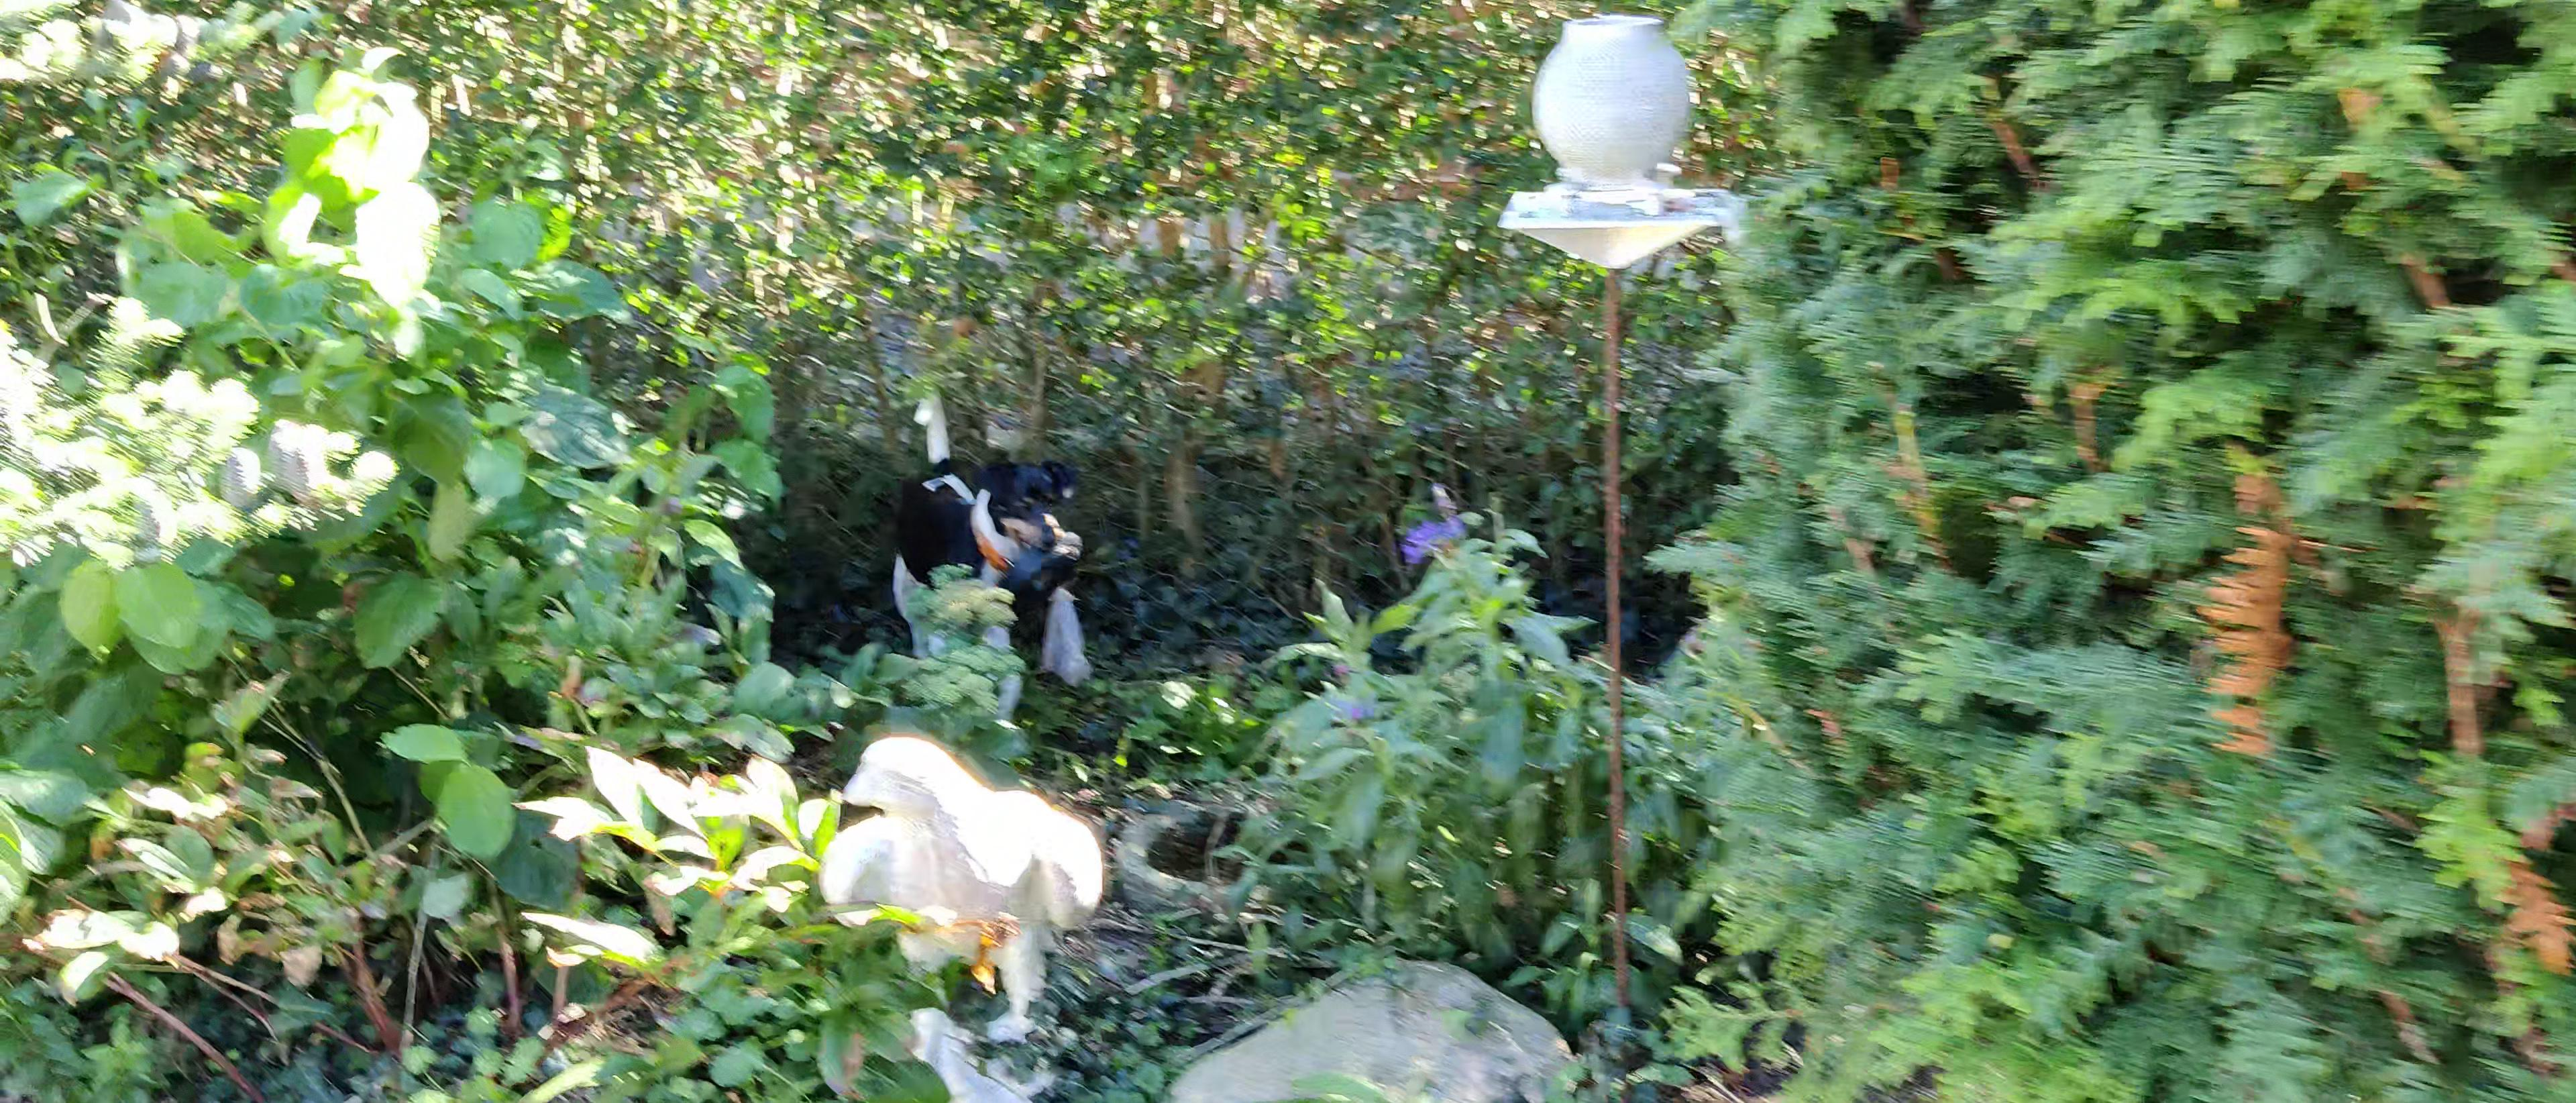Dog: (872, 386, 1083, 717)
